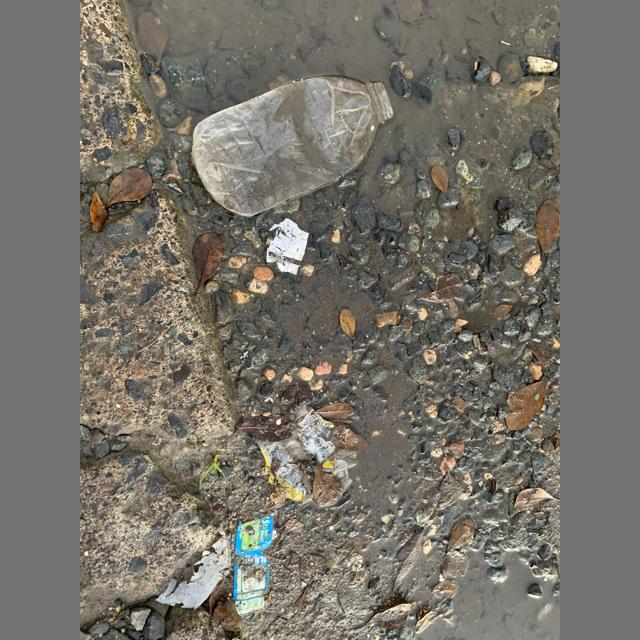litter: (192, 76, 394, 217), (255, 405, 358, 502), (155, 523, 231, 609), (231, 516, 273, 617), (267, 218, 309, 274)
